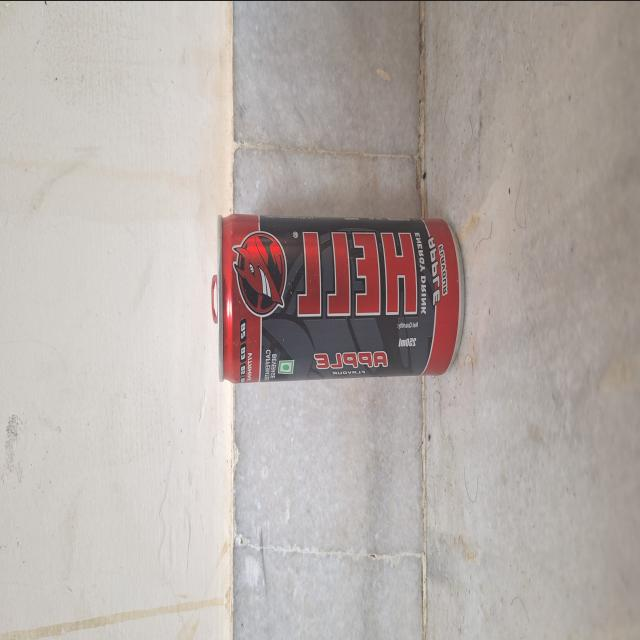Hell Apple: (198, 195, 480, 407)
